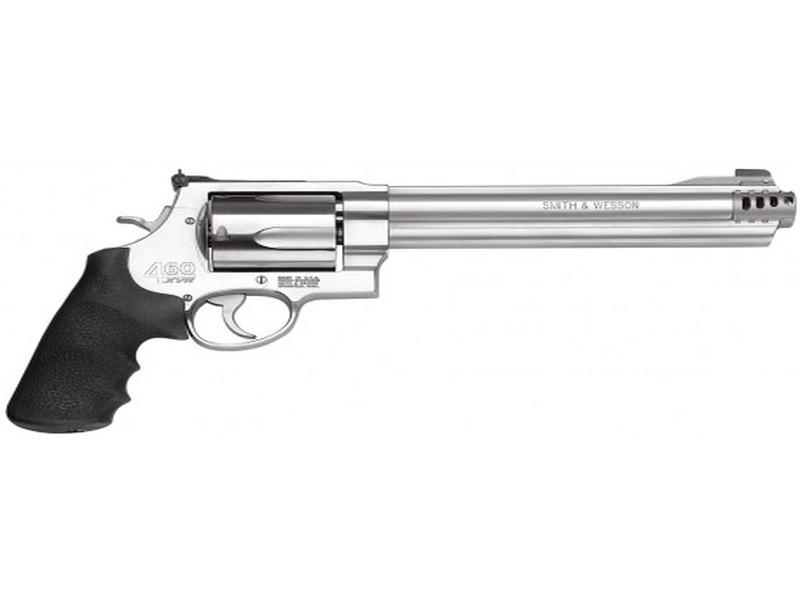Revolver: (91, 137, 797, 405)
